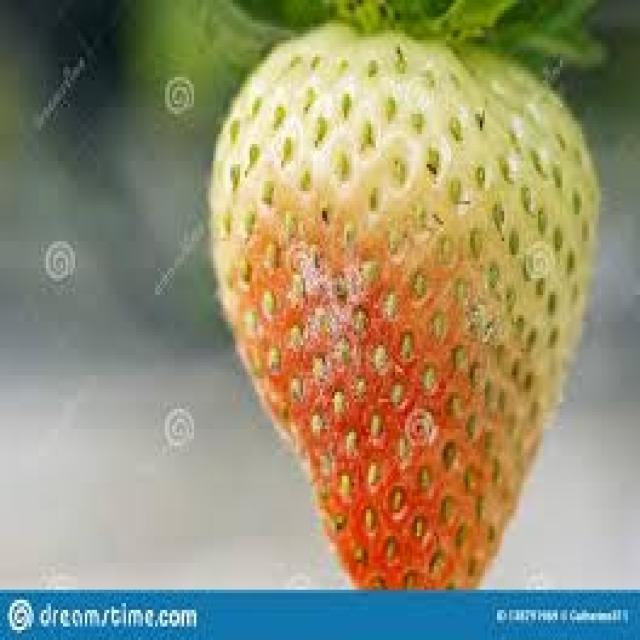Oído: (195, 41, 604, 586)
